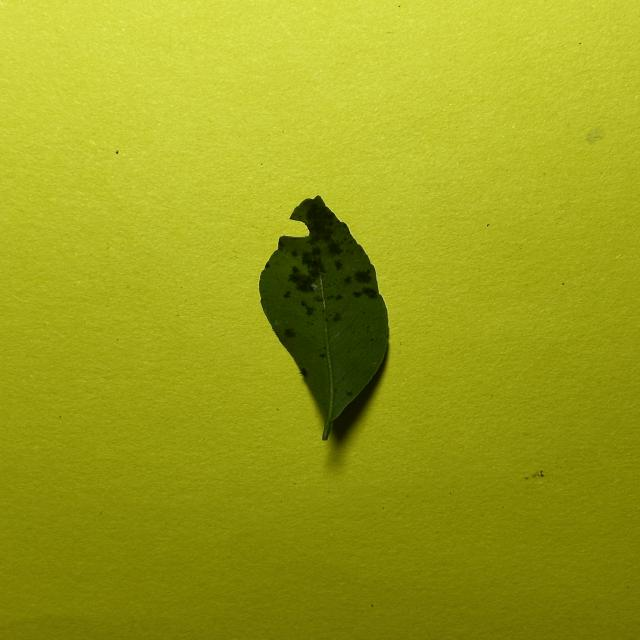sooty_mold: (259, 196, 388, 440)
